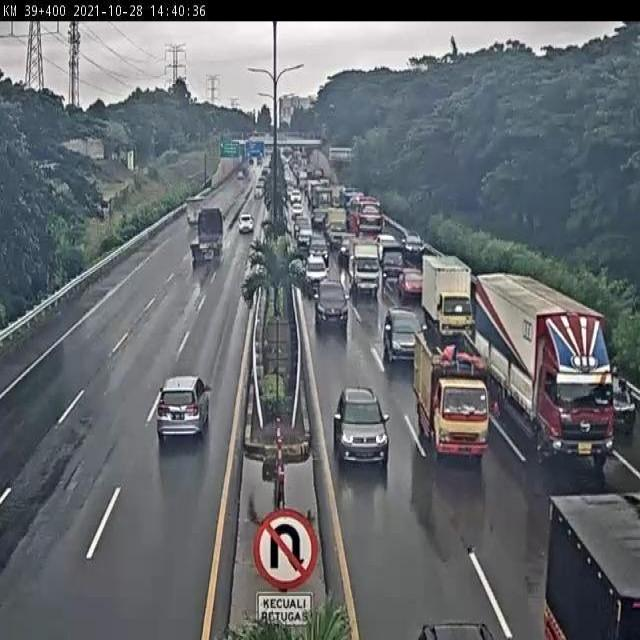big truck: (474, 271, 616, 464), (192, 206, 227, 262)
car: (335, 387, 386, 461), (157, 379, 212, 441), (383, 304, 426, 361), (314, 278, 348, 326), (303, 245, 331, 284), (381, 240, 403, 277), (396, 263, 420, 293), (234, 215, 259, 241)
small truck: (529, 466, 640, 638), (412, 327, 480, 448), (422, 256, 476, 336), (348, 234, 381, 290), (183, 194, 206, 230)
